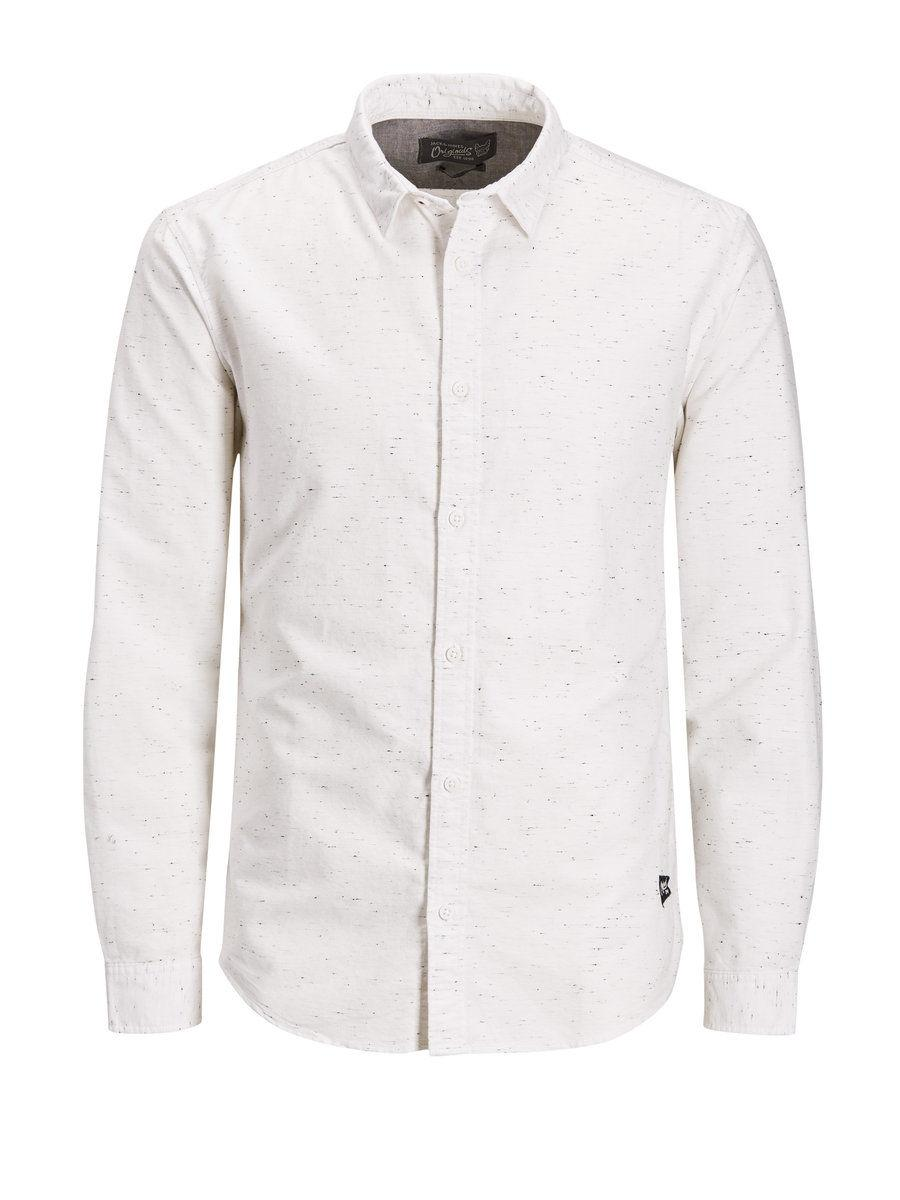teeshirt: (80, 65, 820, 1062)
